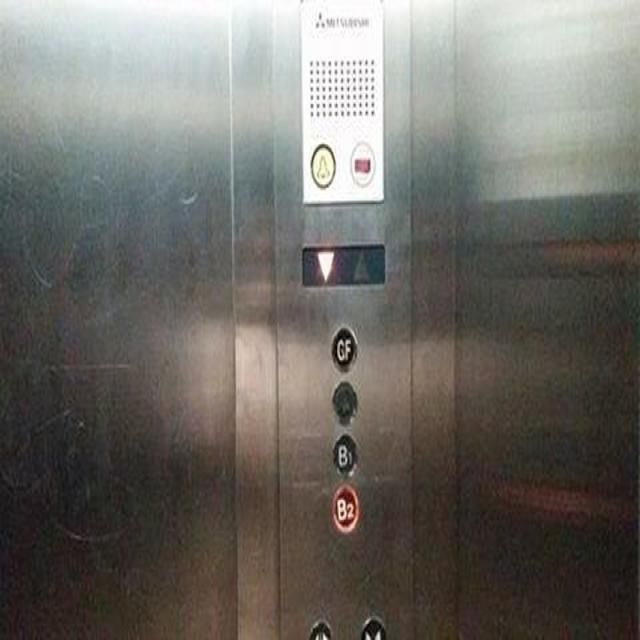B1: (330, 428, 360, 479)
B2: (327, 477, 362, 539)
GF: (328, 323, 358, 376)
alarm: (307, 139, 338, 192)
blur: (329, 377, 359, 428)
led: (301, 244, 386, 287)
unknown: (348, 136, 378, 189)
